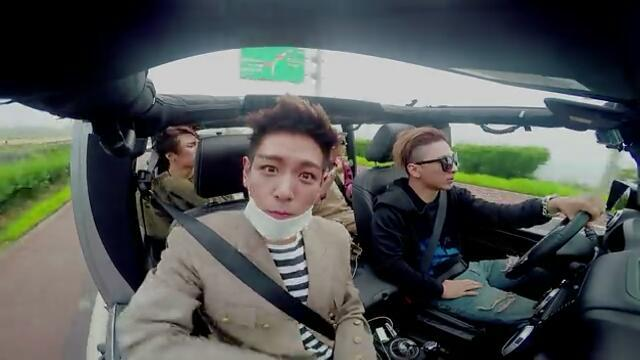NONE: (418, 148, 459, 192), (179, 139, 202, 169)
WRONG: (242, 150, 327, 235)
